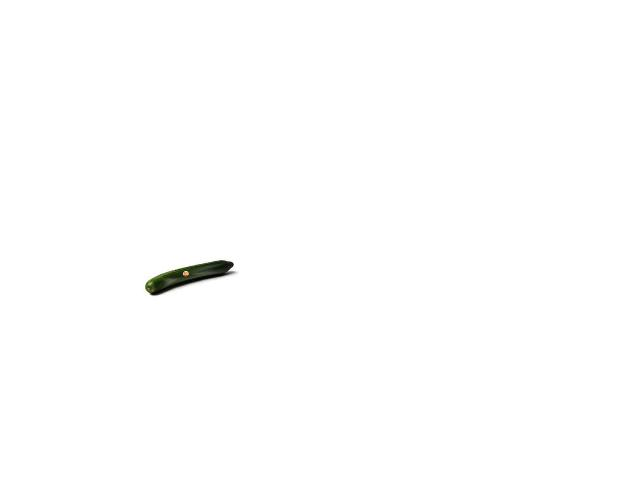cucumber: (144, 260, 233, 293)
